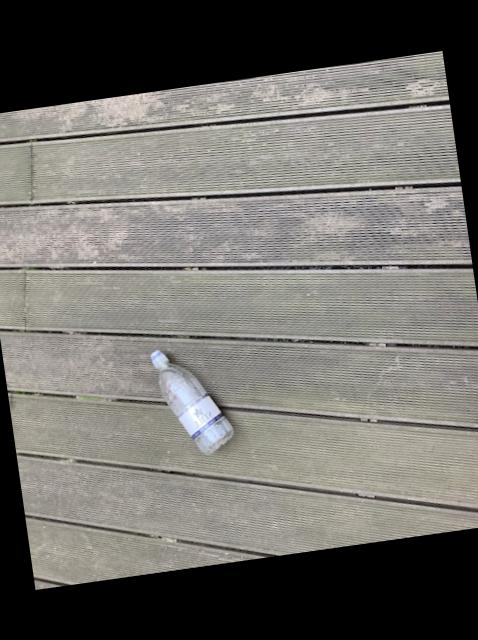plastic: (149, 349, 232, 452)
